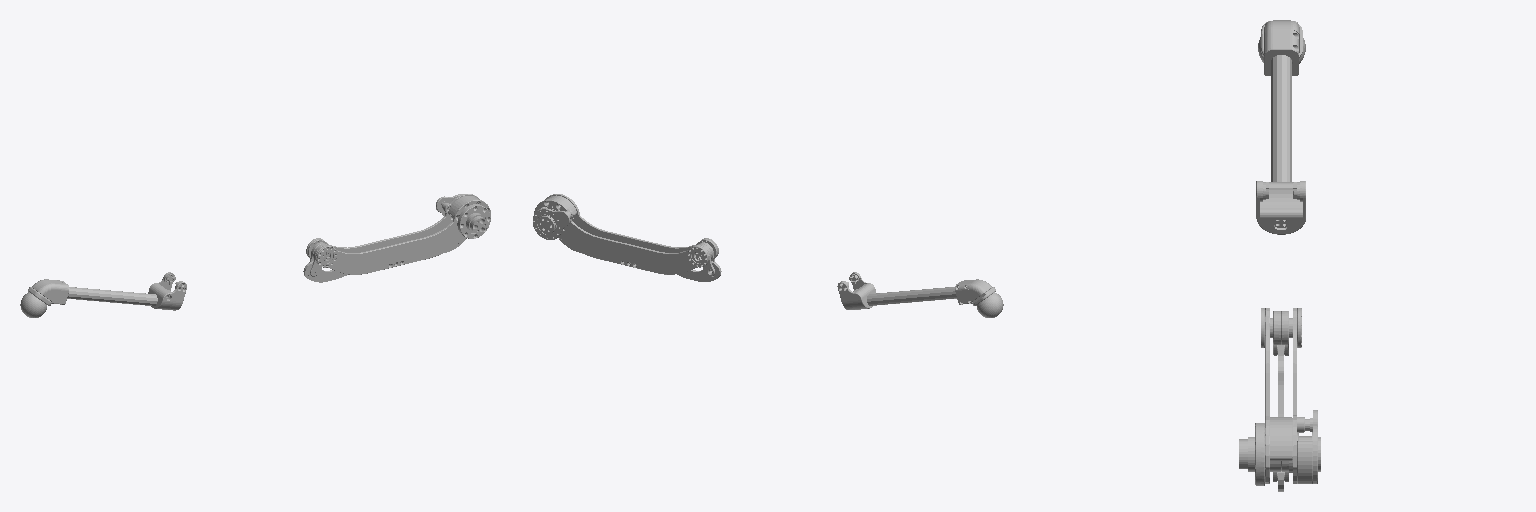
URDF robot description (urdf_legFL5):
<?xml version="1.0" encoding="utf-8"?>
<!-- This URDF was automatically created by SolidWorks to URDF Exporter! Originally created by [author] ([email redacted]) 
     Commit Version: 1.6.0-4-g7f85cfe  Build Version: 1.6.7995.38578
     For more information, please see http://wiki.ros.org/sw_urdf_exporter -->
<robot
  name="urdf_legFL5">
  <link
    name="hip_link">
    <inertial>
      <origin
        xyz="0.101952223102955 0.026085075446071 0.000461086736221096"
        rpy="0 0 0" />
      <mass
        value="1.04699511498871" />
      <inertia
        ixx="0.000683259983279619"
        ixy="-8.02532206161205E-07"
        ixz="-2.50478197684964E-05"
        iyy="0.000829425476550375"
        iyz="-9.9562465515616E-07"
        izz="0.000877388696364655" />
    </inertial>
    <visual>
      <origin
        xyz="0 0 0"
        rpy="0 0 0" />
      <geometry>
        <mesh
          filename="package://urdf_legFL5/meshes/hip_link.STL" />
      </geometry>
      <material
        name="">
        <color
          rgba="0.752941176470588 0.752941176470588 0.752941176470588 1" />
      </material>
    </visual>
    <collision>
      <origin
        xyz="0 0 0"
        rpy="0 0 0" />
      <geometry>
        <mesh
          filename="package://urdf_legFL5/meshes/hip_link.STL" />
      </geometry>
    </collision>
  </link>
  <link
    name="thigh_Link">
    <inertial>
      <origin
        xyz="-0.13384 0.034188 0.0090545"
        rpy="0 0 0" />
      <mass
        value="0.27861" />
      <inertia
        ixx="4.6512E-05"
        ixy="3.6254E-07"
        ixz="3.2462E-05"
        iyy="0.00066413"
        iyz="-2.2252E-07"
        izz="0.00062539" />
    </inertial>
    <visual>
      <origin
        xyz="0 0 0"
        rpy="0 0 0" />
      <geometry>
        <mesh
          filename="package://urdf_legFL5/meshes/thigh_Link.STL" />
      </geometry>
      <material
        name="">
        <color
          rgba="0.75294 0.75294 0.75294 1" />
      </material>
    </visual>
    <collision>
      <origin
        xyz="0 0 0"
        rpy="0 0 0" />
      <geometry>
        <mesh
          filename="package://urdf_legFL5/meshes/thigh_Link.STL" />
      </geometry>
    </collision>
  </link>
  <joint
    name="HFE"
    type="revolute">
    <origin
      xyz="0.1435 0 0.071053"
      rpy="1.5708 0 0" />
    <parent
      link="hip_link" />
    <child
      link="thigh_Link" />
    <axis
      xyz="0 1 0" />
    <limit
      lower="-3.14"
      upper="3.14"
      effort="70"
      velocity="100" />
  </joint>
  <link
    name="shank_Link">
    <inertial>
      <origin
        xyz="-0.129971495409493 0.0250334707273275 -0.00810863913628968"
        rpy="0 0 0" />
      <mass
        value="0.287352529705375" />
      <inertia
        ixx="6.07208362511188E-05"
        ixy="-2.24205563785004E-06"
        ixz="-8.4406151458307E-05"
        iyy="0.000335455112490887"
        iyz="-1.02117465511318E-06"
        izz="0.000300747939810049" />
    </inertial>
    <visual>
      <origin
        xyz="0 0 0"
        rpy="0 0 0" />
      <geometry>
        <mesh
          filename="package://urdf_legFL5/meshes/shank_Link.STL" />
      </geometry>
      <material
        name="">
        <color
          rgba="0.752941176470588 0.752941176470588 0.752941176470588 1" />
      </material>
    </visual>
    <collision>
      <origin
        xyz="0 0 0"
        rpy="0 0 0" />
      <geometry>
        <mesh
          filename="package://urdf_legFL5/meshes/shank_Link.STL" />
      </geometry>
    </collision>
  </link>
  <joint
    name="KFE"
    type="continuous">
    <origin
      xyz="-0.25 0.0096514 0"
      rpy="0 0 0" />
    <parent
      link="thigh_Link" />
    <child
      link="shank_Link" />
    <axis
      xyz="0 1 0" />
    <limit
      lower="-3.14"
      upper="3.14"
      effort="70"
      velocity="100" />
  </joint>
</robot>

--- What the picture shows (computed from the rendered views, not written in the file) ---
The picture shows the robot from 3 angles, left to right: view 1: azimuth 30°, elevation 25°; view 2: azimuth 150°, elevation 25°; view 3: azimuth 270°, elevation 25°; orthographic projection.
Robot: urdf_legFL5 — 3 links, 2 joints (1 revolute, 1 continuous); root link hip_link; default pose: all joints at 0.
Visible links, largest first — view 1: thigh_Link, shank_Link; view 2: thigh_Link, shank_Link; view 3: thigh_Link, shank_Link.
Boxes of the visible links, x1,y1,x2,y2 form: thigh_Link: (303,194,490,282); shank_Link: (20,272,186,317); thigh_Link: (533,194,721,281); shank_Link: (837,272,1003,317); thigh_Link: (1239,308,1320,491); shank_Link: (1256,20,1305,234).
Bounding box of the posed robot: 0.7932 × 0.069 × 0.1097 m (x, y, z).
Meshes: 3 distinct files referenced, 2 mesh visuals loaded (2 binary STL); not drawn: 1 (reference not matched to a file when rendering).